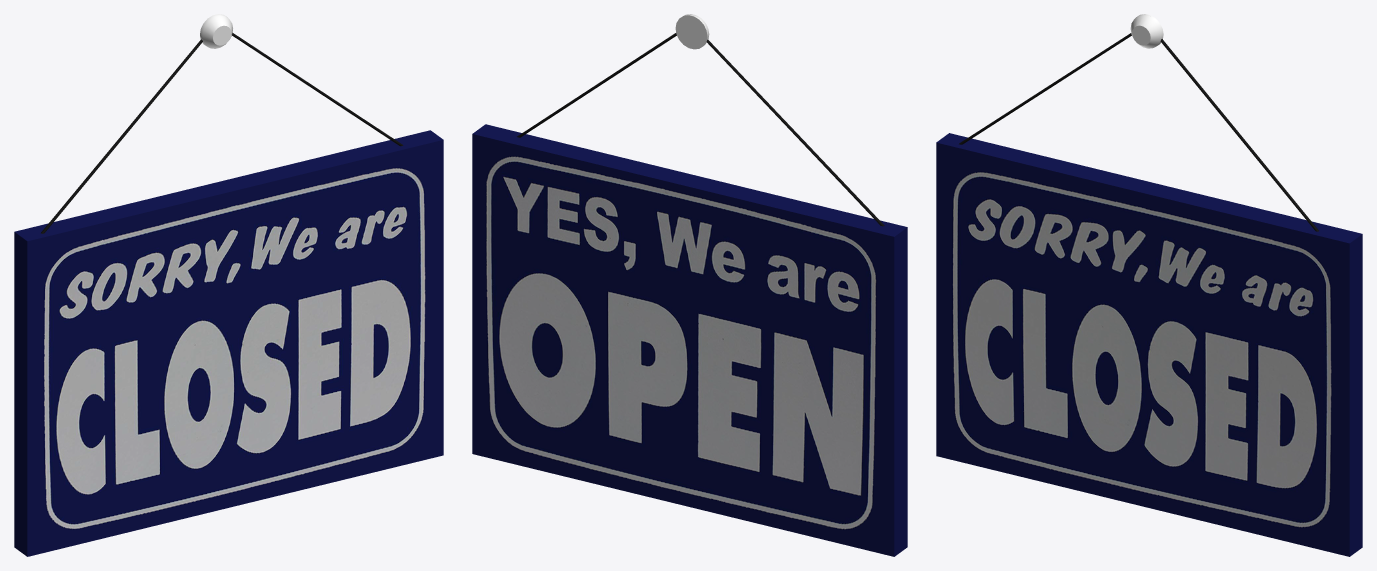
File: Openclose picture.FBX
3 views of the same model, side by side, from view 1: azimuth 30°, elevation 25°; view 2: azimuth 150°, elevation 25°; view 3: azimuth 330°, elevation 25° (orthographic). The views are drawn at different scales.
Visible parts, largest first — view 1: Openclose picture; view 2: Openclose picture; view 3: Openclose picture.
Part boxes in pixels (x1,y1,x2,y2): Openclose picture: (14,14,443,556); Openclose picture: (472,14,907,556); Openclose picture: (936,14,1362,556).
Size of the model in its own units: 30.66 by 34.09 by 1.68.
1 material, 1 textured.
